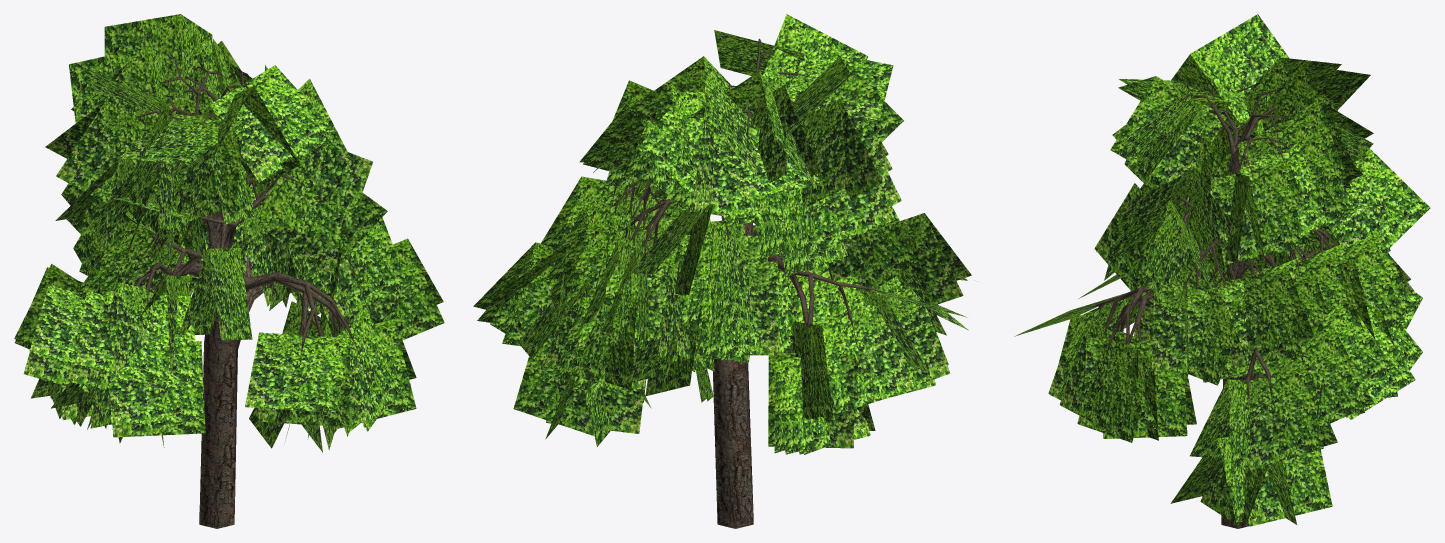
3 views of the same model, side by side, from view 1: azimuth 30°, elevation 25°; view 2: azimuth 150°, elevation 25°; view 3: azimuth 270°, elevation 25° (orthographic). The views are drawn at different scales.
Visible parts, largest first — view 1: twig_003, tree_003; view 2: twig_003, tree_003; view 3: twig_003, tree_003.
Part boxes in pixels (x1,y1,x2,y2): twig_003: (14,14,444,452); tree_003: (135,56,357,528); twig_003: (473,14,971,454); tree_003: (557,38,889,528); twig_003: (1014,14,1430,526); tree_003: (1084,84,1355,528).
Bounding box in the file's own units: 5.6 × 4.97 × 5.98.
Materials: 2 (2 with a texture image).
